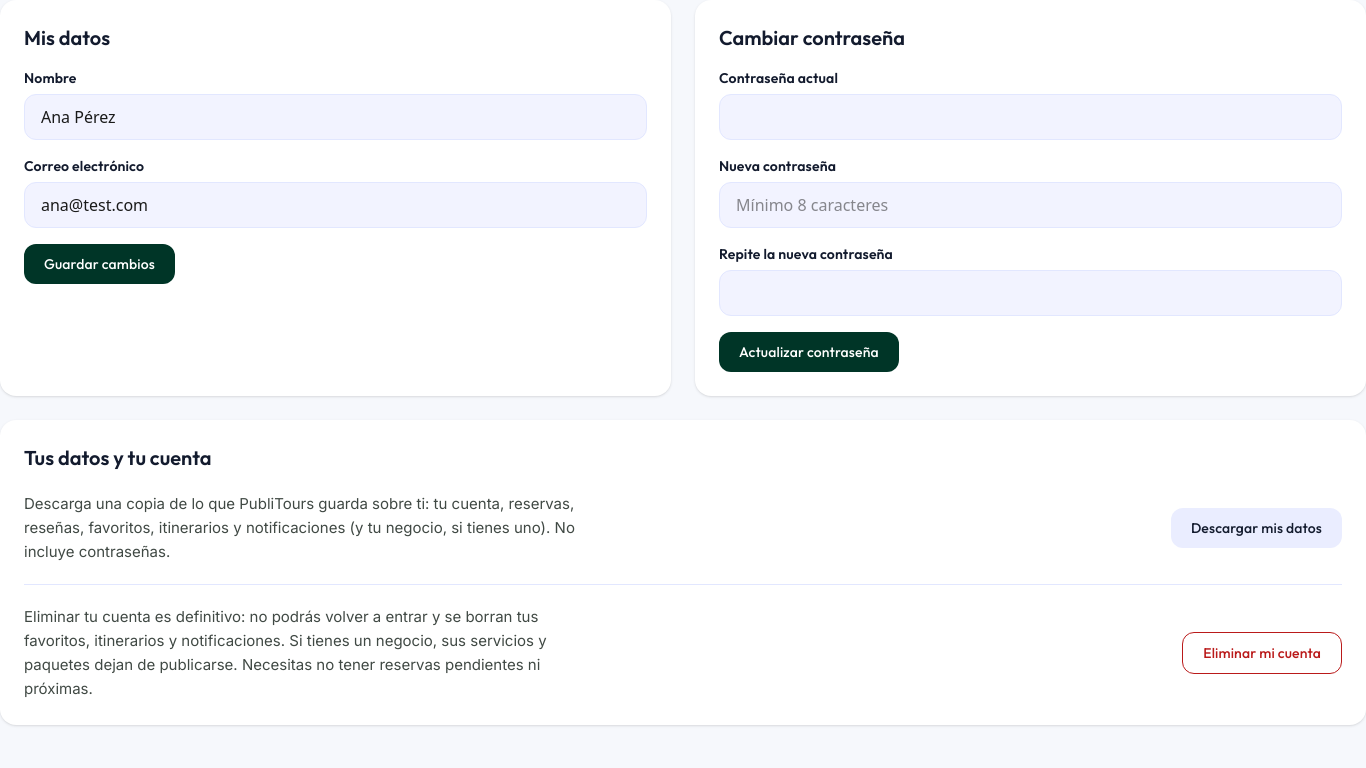
Test case: MisDatos › no envía el cambio de contraseña si las nuevas no coinciden
Type "claveActual1" into the password field labelled "Contraseña actual".
click(1030, 117); type("claveActual1")  # box [719,94,1342,140]
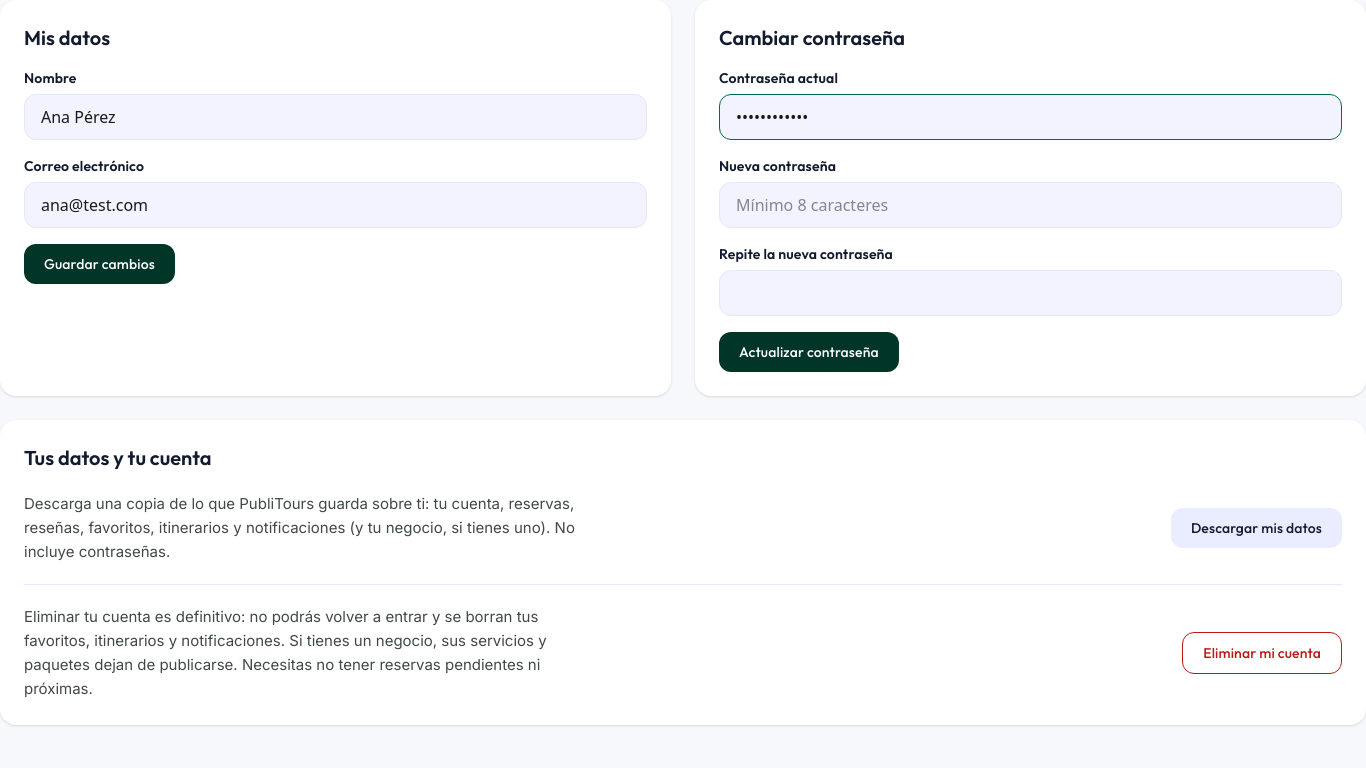
Type "nuevaClave123" into the password field labelled "Nueva contraseña".
click(1030, 205); type("nuevaClave123")  # box [719,182,1342,228]
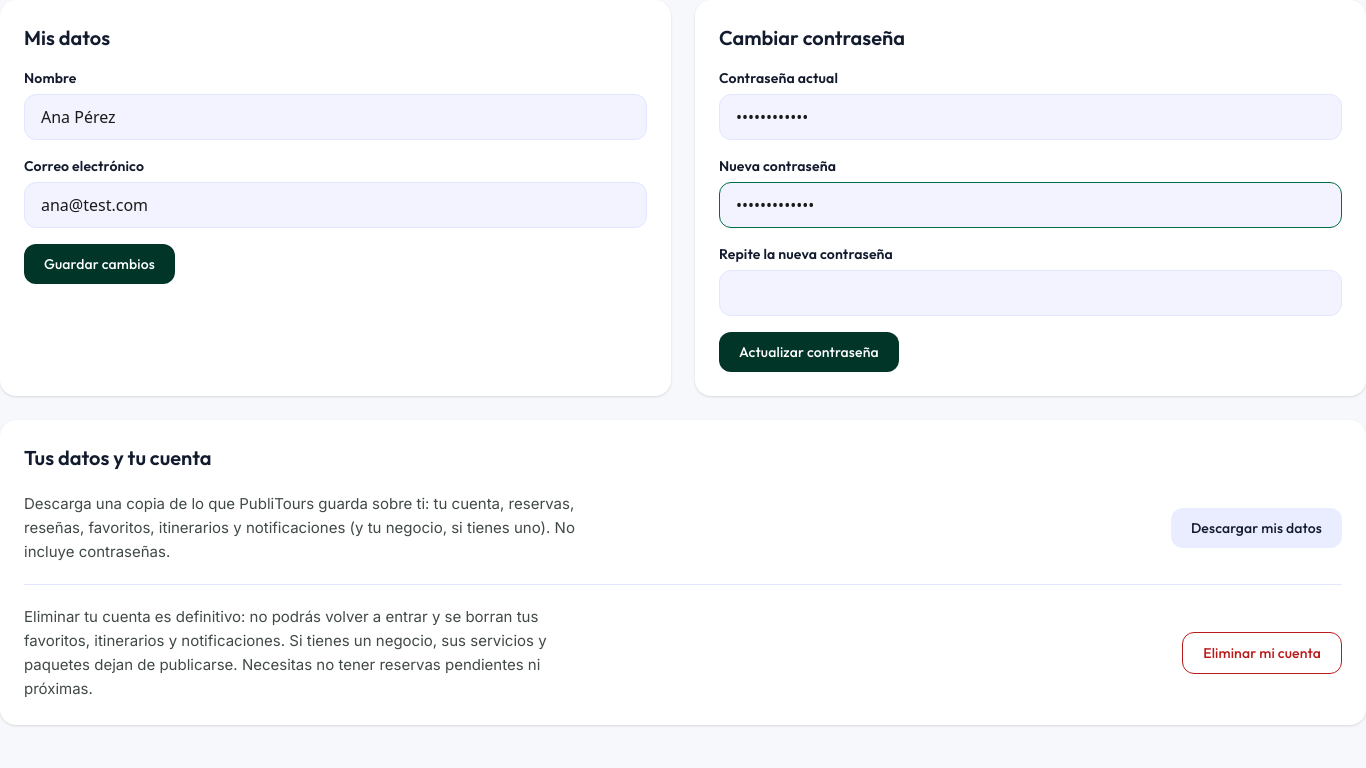
Type "otraDistinta1" into the password field labelled "Repite la nueva contraseña".
click(1030, 293); type("otraDistinta1")  # box [719,270,1342,316]
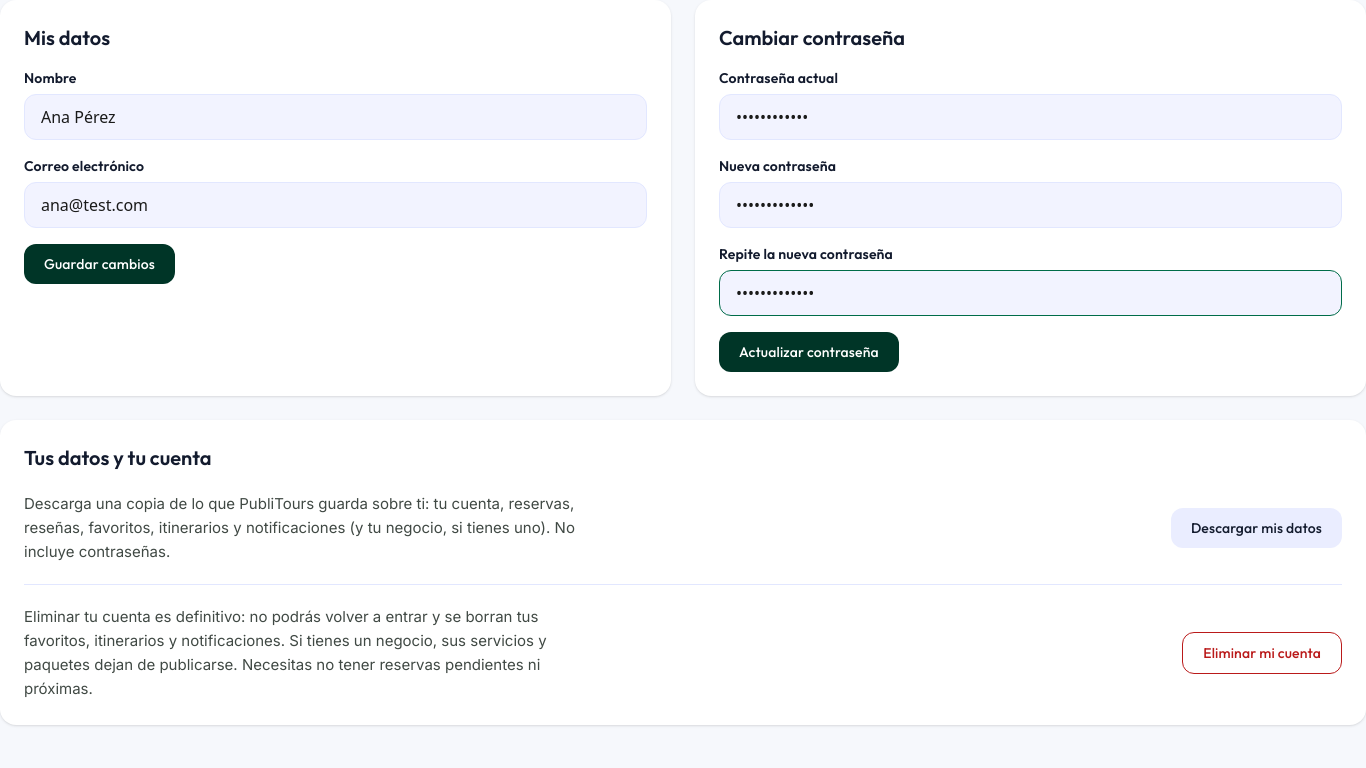
Click the button "Actualizar contraseña".
click(809, 352)  # box [719,332,899,372]
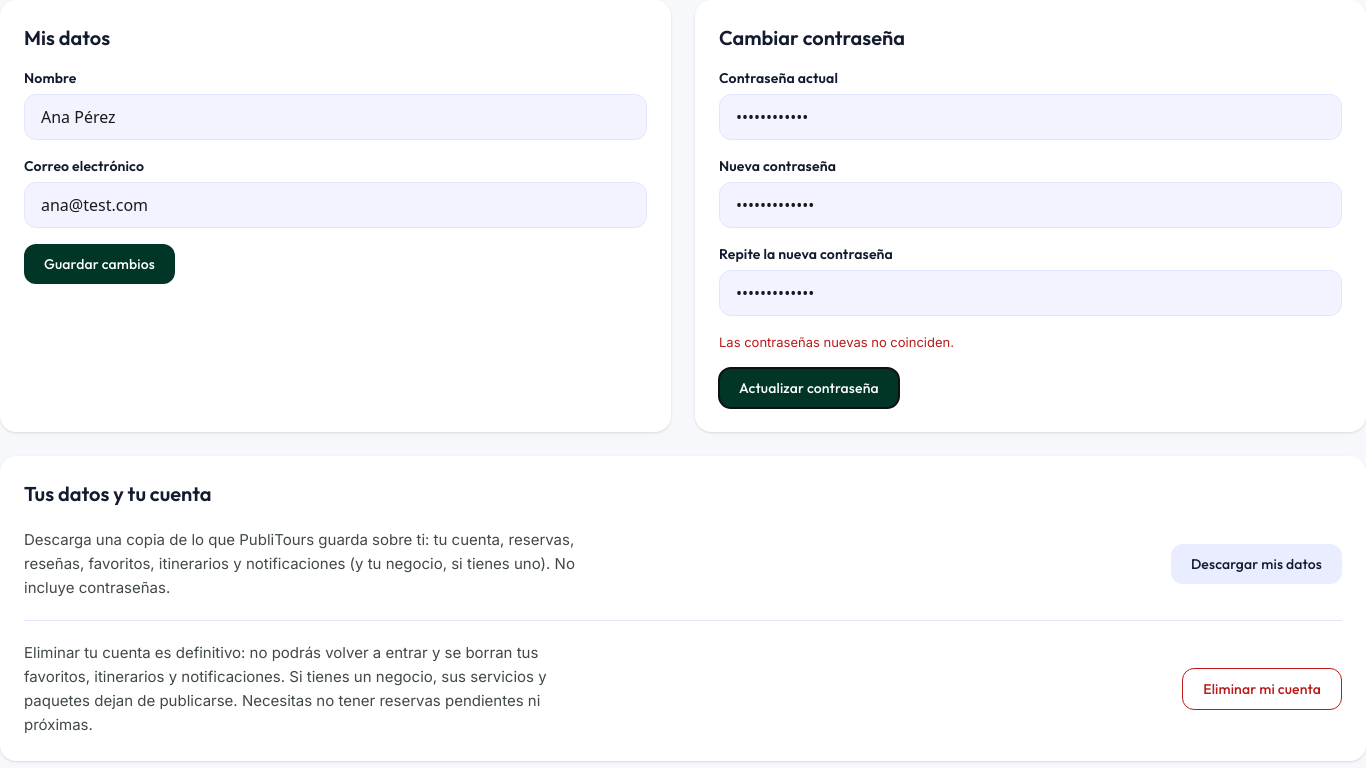
Check: the text "Las contraseñas nuevas no coinciden." is shown, box [719,334,954,350]
